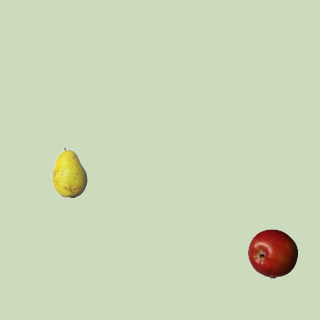Apple Braeburn: (247, 228, 297, 278)
Pear Monster: (44, 147, 94, 197)
